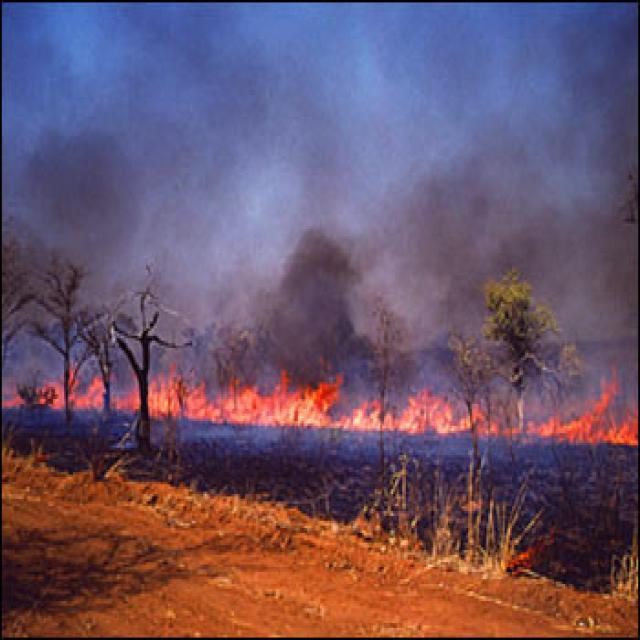Fire: (0, 369, 640, 453)
Smoke: (0, 0, 635, 375)
